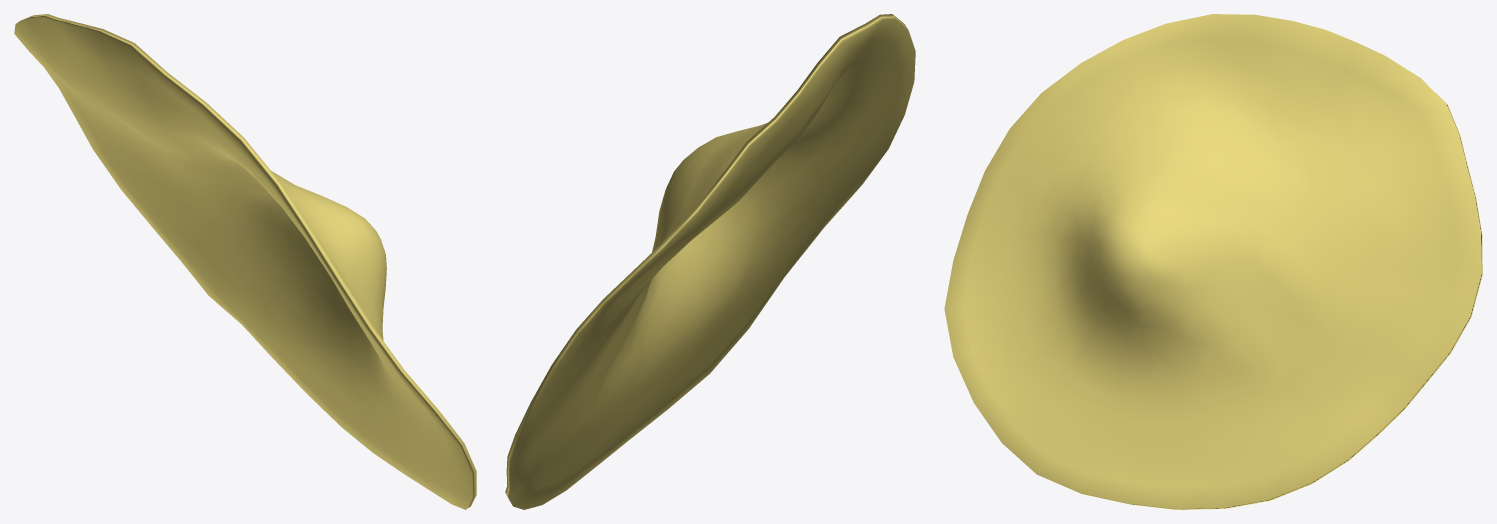
The model's file is tympanic-membrane-r.glb.
3 views of the same model, side by side, from view 1: azimuth 30°, elevation 25°; view 2: azimuth 150°, elevation 25°; view 3: azimuth 270°, elevation 25° (orthographic). The views are drawn at different scales.
Parts seen in each view (by area): view 1: Tympanic membrane.r; view 2: Tympanic membrane.r; view 3: Tympanic membrane.r.
Boxes of the visible parts, left/top/right/bottom form: Tympanic membrane.r: left=14, top=14, right=476, bottom=509; Tympanic membrane.r: left=505, top=14, right=915, bottom=509; Tympanic membrane.r: left=944, top=14, right=1482, bottom=509.
Size of the model in its own units: 0.00497 by 0.0085 by 0.0105.
